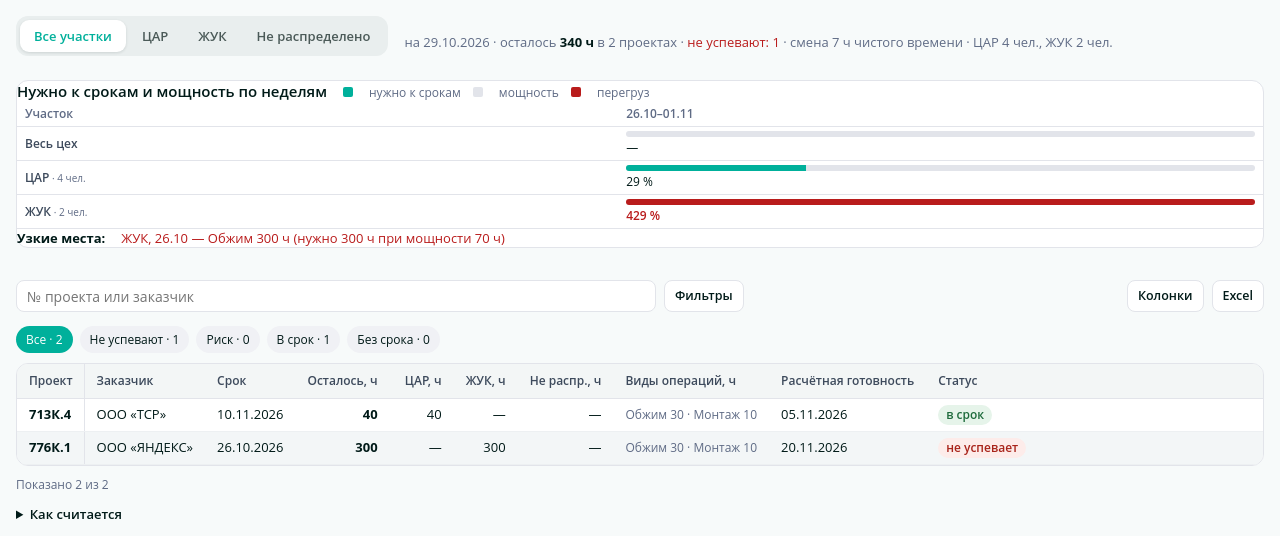
Test: filters by site
Expected: the text "713К.4" is shown, [29,405,71,423]
Click the radio button labelled "ЦАР".
click(155, 36)  # box [128,20,182,52]
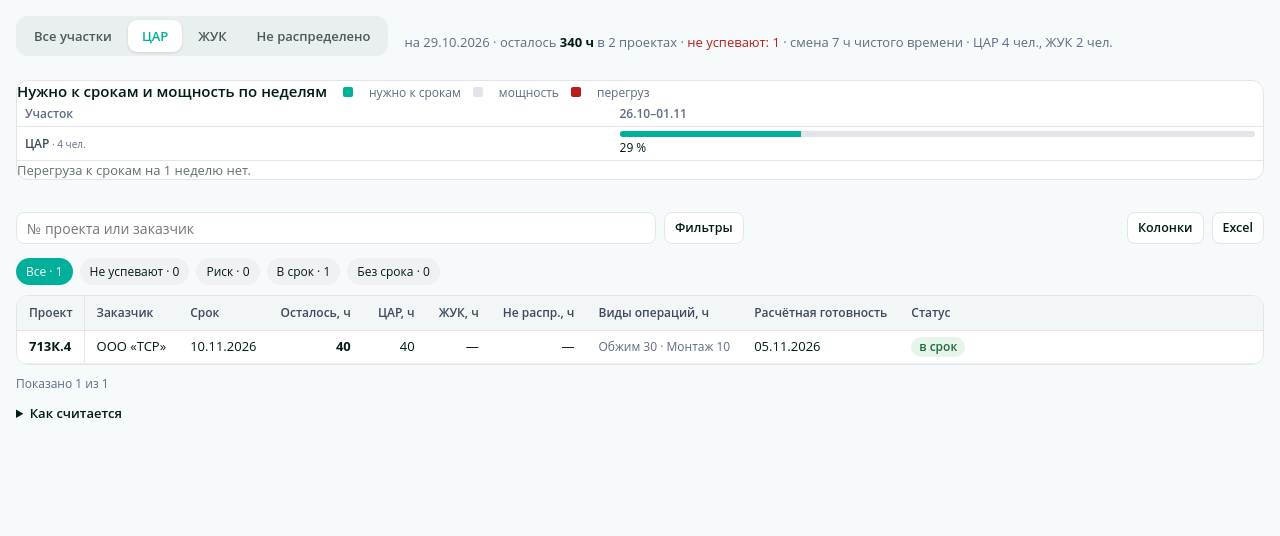
Expected: the text "713К.4" is shown, [29,337,71,355]
Expected: the text "776К.1" is gone
